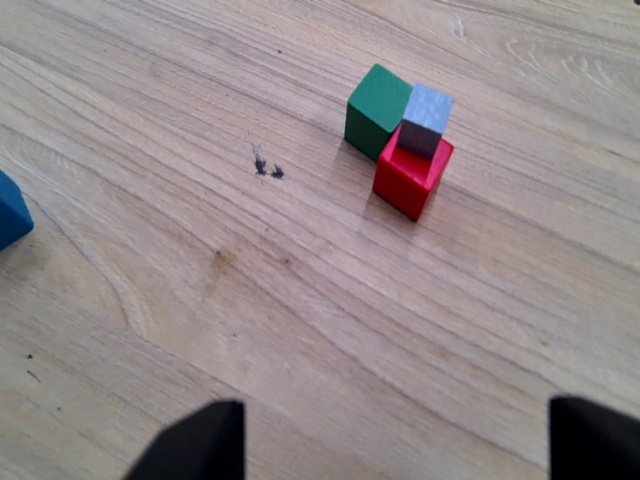stone: (397, 75, 453, 161)
